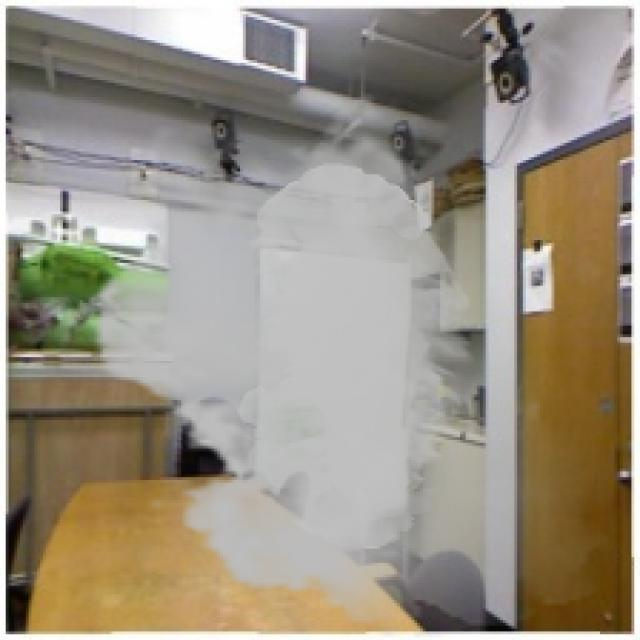Smoke: (71, 92, 628, 638)
